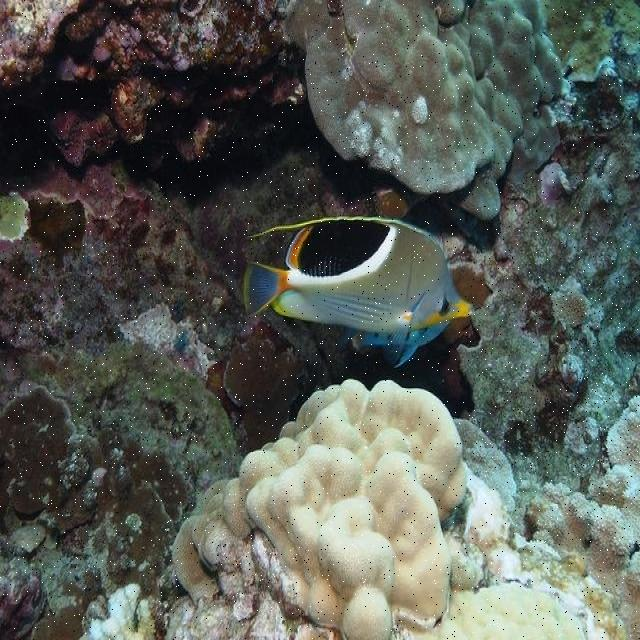fish: (242, 216, 475, 369)
